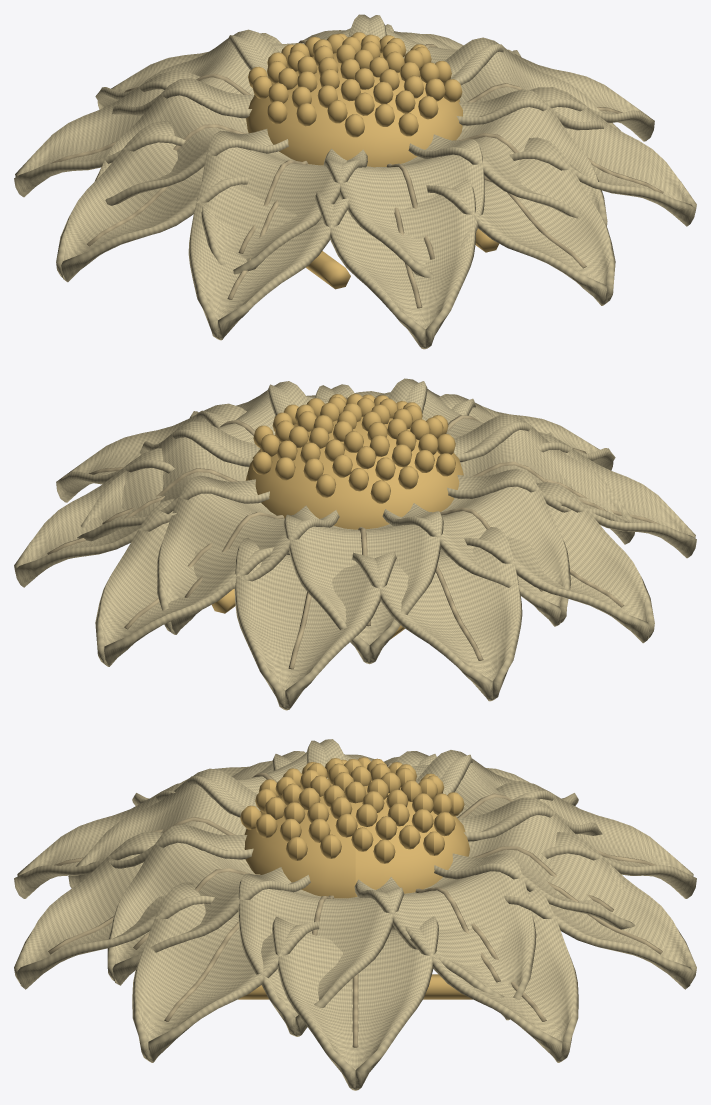
Rendered from daisy.glb.
3 renders of one model, top to bottom at view 1: azimuth 30°, elevation 25°; view 2: azimuth 150°, elevation 25°; view 3: azimuth 270°, elevation 25°, orthographic. The views are drawn at different scales.
Visible parts, largest first — view 1: daisy / Woven daisy, daisy / Brushed warm brass, daisy / Ivory cotton stitching; view 2: daisy / Woven daisy, daisy / Brushed warm brass, daisy / Ivory cotton stitching; view 3: daisy / Woven daisy, daisy / Brushed warm brass, daisy / Ivory cotton stitching.
Boxes of the visible parts, left/top/right/bottom form: daisy / Woven daisy: left=14, top=14, right=696, bottom=349; daisy / Brushed warm brass: left=246, top=32, right=498, bottom=289; daisy / Ivory cotton stitching: left=50, top=40, right=663, bottom=308; daisy / Woven daisy: left=14, top=378, right=696, bottom=710; daisy / Brushed warm brass: left=212, top=393, right=463, bottom=639; daisy / Ivory cotton stitching: left=47, top=397, right=660, bottom=669; daisy / Woven daisy: left=14, top=739, right=696, bottom=1090; daisy / Brushed warm brass: left=238, top=757, right=472, bottom=999; daisy / Ivory cotton stitching: left=48, top=762, right=662, bottom=1047.
Size of the model in its own units: 0.1421 by 0.0396 by 0.1357.
Materials: 3 (2 with a texture image).
